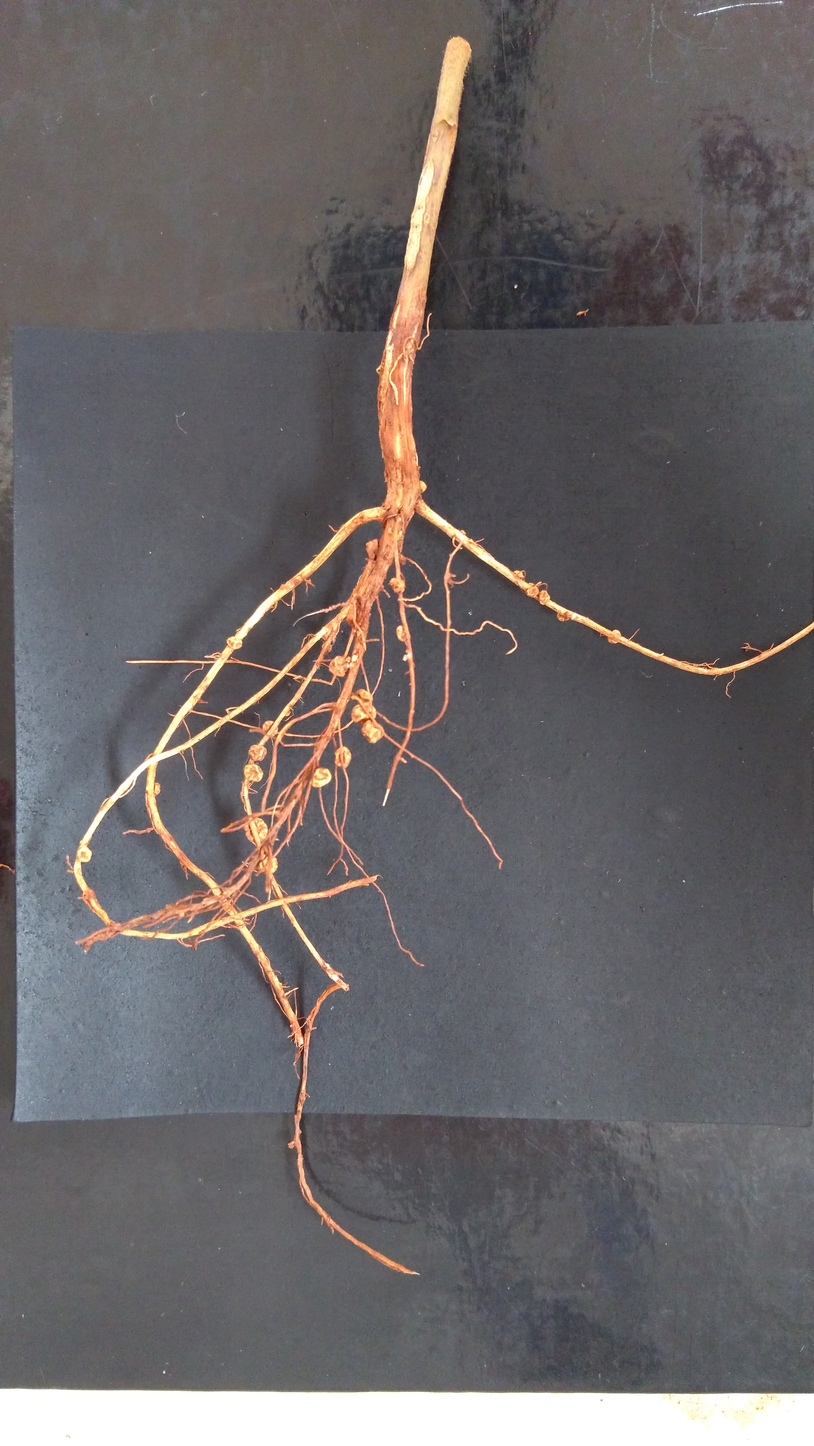nodule: (346, 595, 367, 628), (243, 817, 268, 844), (360, 719, 385, 744), (351, 702, 377, 724), (329, 656, 349, 677), (311, 767, 331, 788), (334, 746, 352, 769), (243, 764, 264, 783), (257, 855, 278, 874), (354, 688, 373, 706), (365, 539, 379, 562), (248, 745, 267, 761), (76, 845, 93, 862), (262, 720, 278, 737), (396, 624, 409, 642), (390, 577, 405, 592), (226, 636, 243, 649), (607, 629, 621, 644), (526, 582, 539, 597), (539, 589, 550, 606), (557, 609, 572, 621), (393, 552, 406, 565), (321, 627, 332, 638), (419, 479, 427, 493), (153, 782, 161, 796), (321, 642, 332, 652), (512, 570, 524, 579), (402, 651, 412, 661), (351, 652, 360, 662), (287, 1141, 296, 1149), (283, 710, 292, 717), (460, 529, 467, 536)
